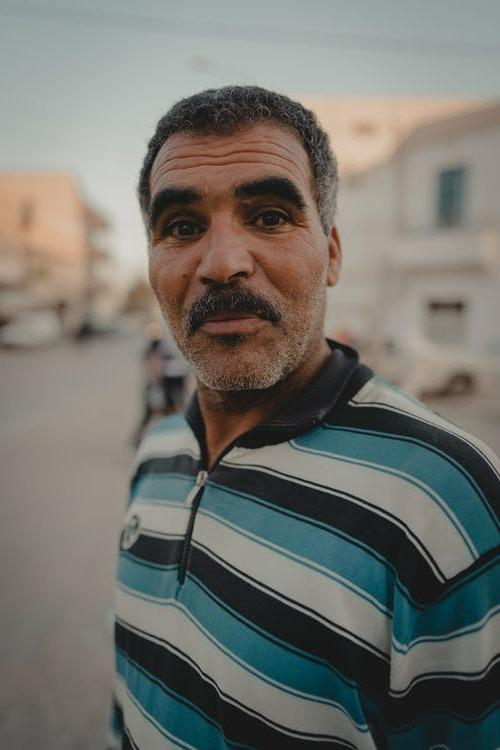Wrinkles: (155, 161, 301, 182), (159, 151, 297, 168), (246, 142, 293, 154), (166, 143, 205, 150), (210, 142, 233, 148), (308, 230, 313, 235), (297, 225, 308, 227)
